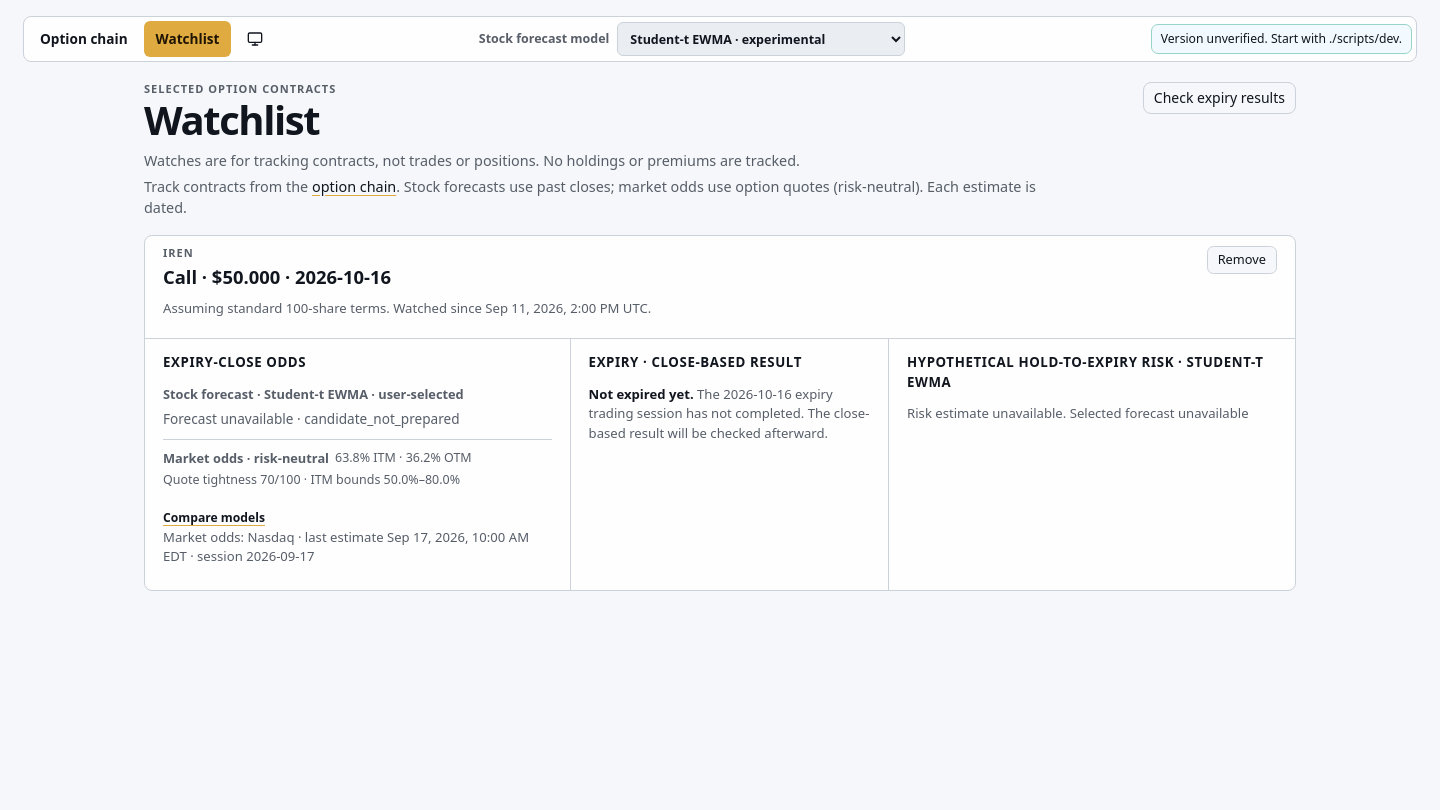
keeps an unavailable selected model unavailable while showing an available alternative
Expected: the element with class "watch-odds" shows "Forecast unavailable", [163,409,294,428]
Expected: the element with class "watch-odds" does not show "62.0%"
Step 1. Click the button "Compare models" → coordinates (214, 518), box [163,509,265,527]
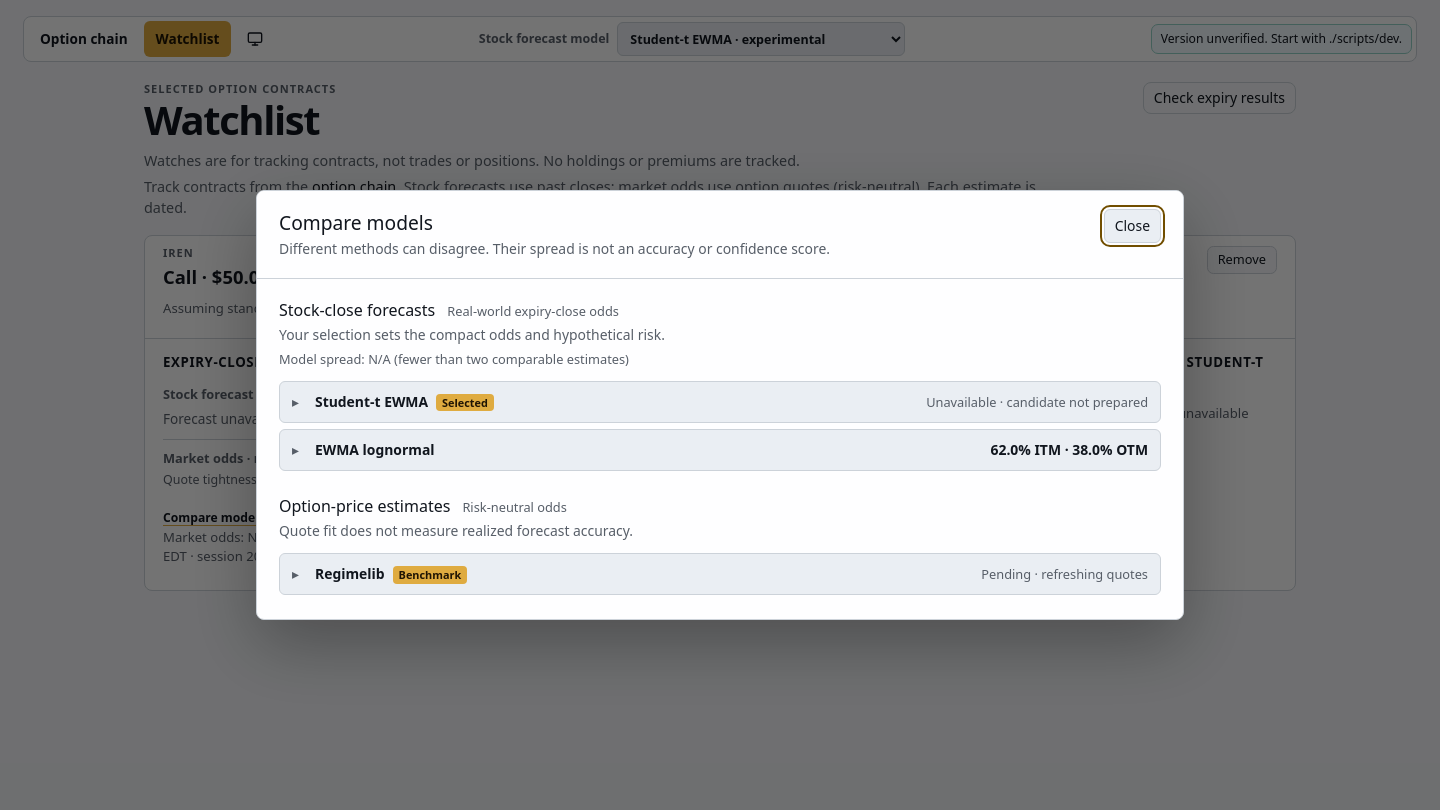
Expected: the element named "Hypothetical expiry risk" shows "Student-t EWMA", [907,353,1264,390]
Expected: the dialog "Compare models" shows "62.0% ITM", [990,440,1148,459]
